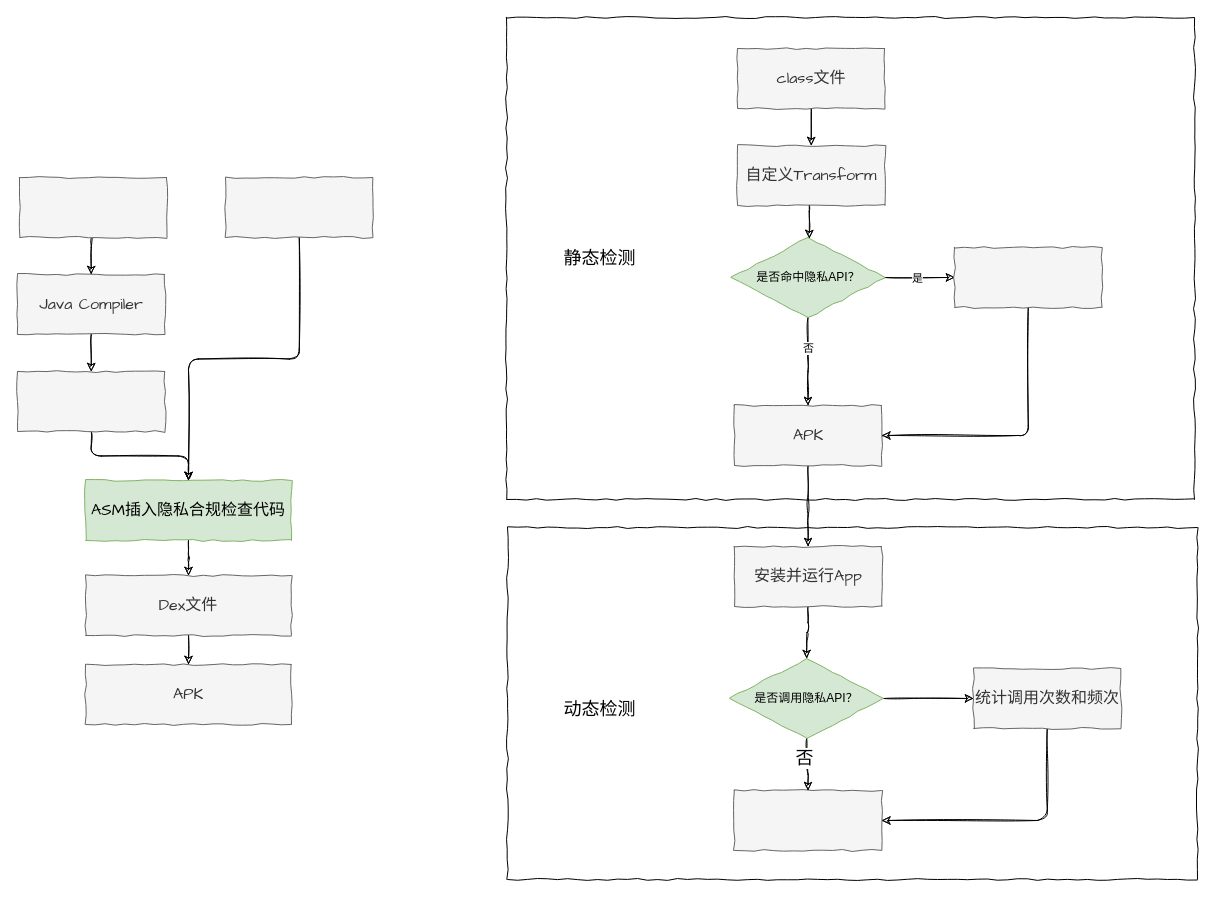
Some shapes in this 1215 by 897 pixel diagram are drawn without their labels. The box of each missing label's shape, as (x1, y1, x2, y2) in pixels:
.class文件: (16, 370, 165, 432)
Java Source: (18, 176, 167, 238)
插入检查代码: (954, 246, 1102, 308)
第三方库.class文件: (224, 176, 373, 238)
结束: (733, 790, 882, 850)
